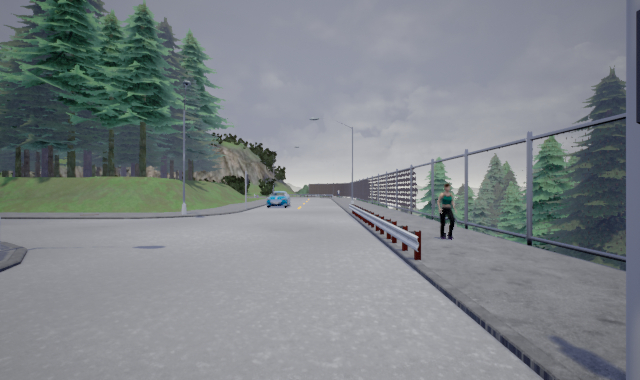pedestrian: (437, 180, 457, 240)
vehicle: (264, 191, 291, 208)
